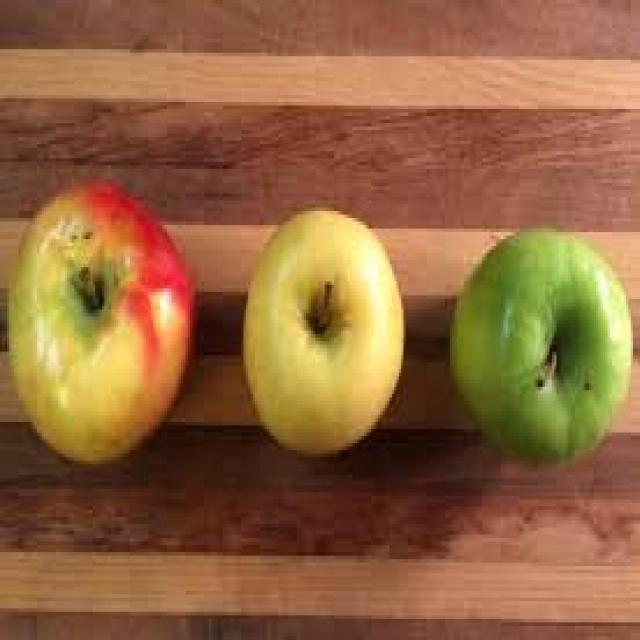Apple: (9, 182, 193, 462), (453, 229, 640, 473), (247, 210, 406, 454)
